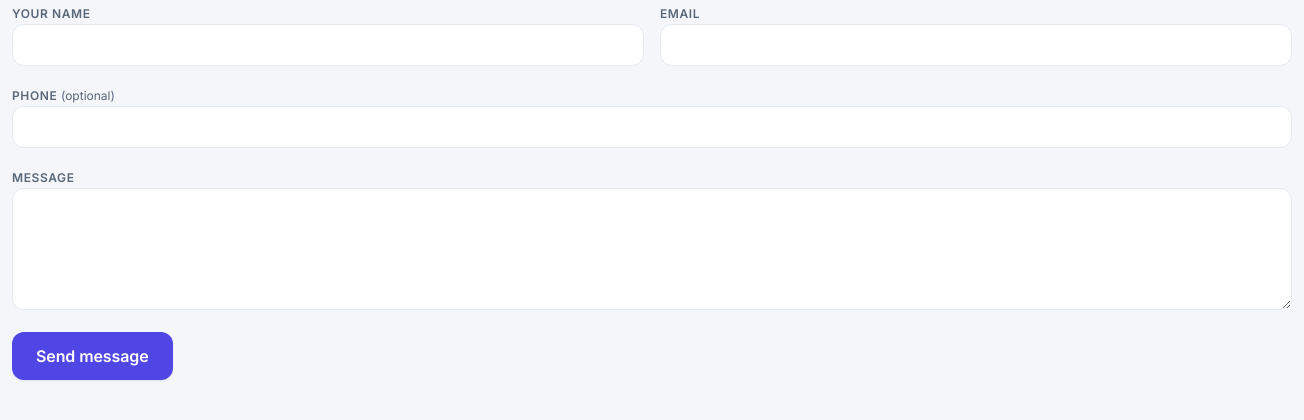
ContactForm › maps server field errors onto the fields
In the field labelled "Your name": (328, 45) [12,24,644,66], type "Ravi Kumar"
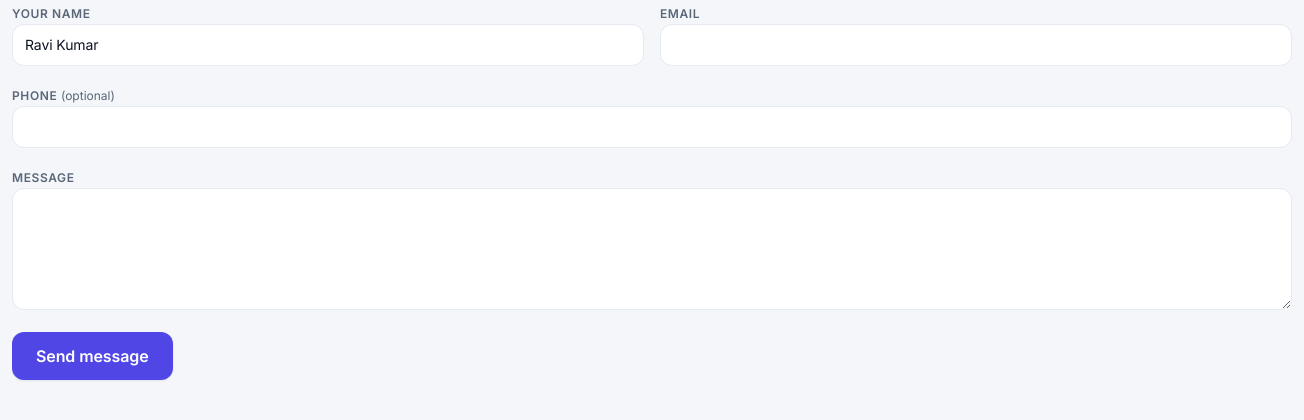
In the field labelled "Email": (976, 45) [660,24,1292,66], type "ravi@example.com"
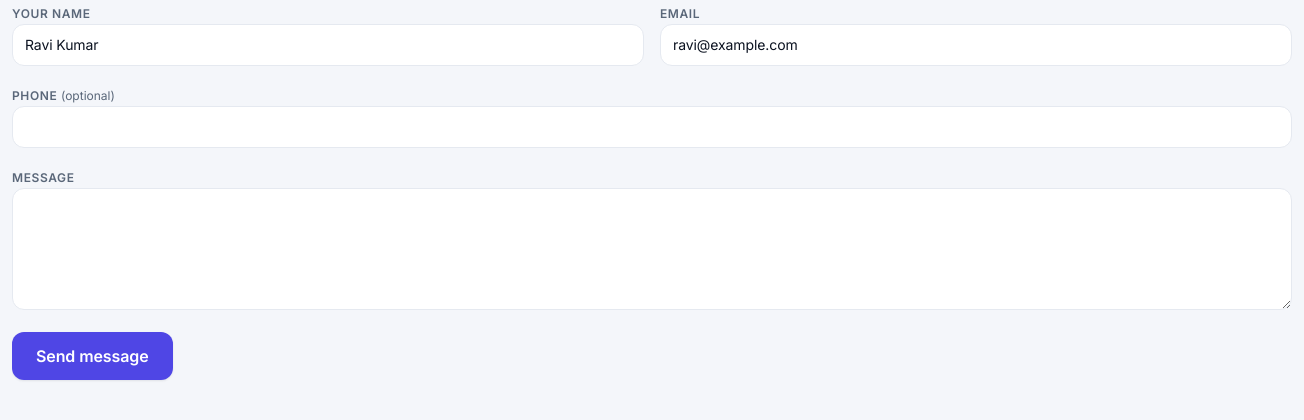
In the text box labelled "Message": (652, 249) [12,188,1292,310], type "I run a 60-bed PG in Hyderabad and would like early access."
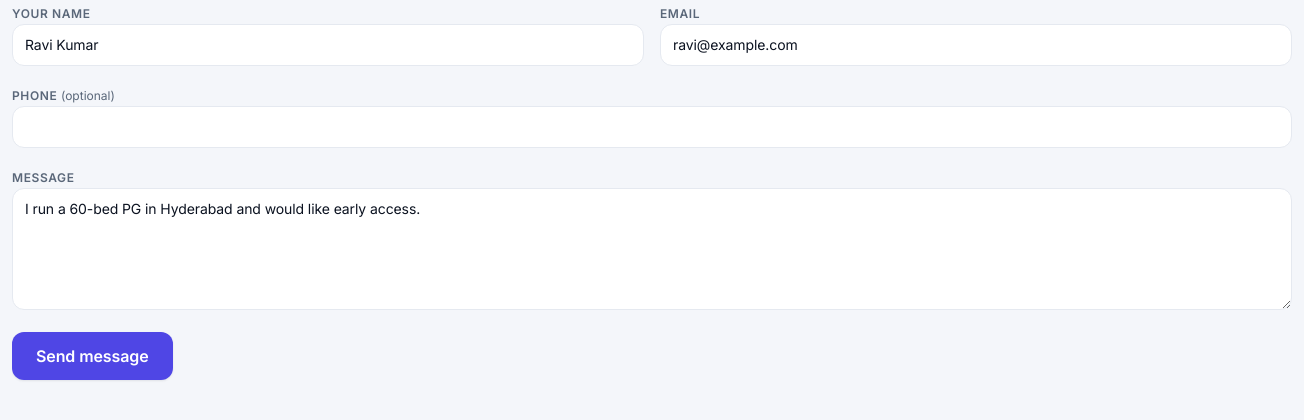
Click the button "Send message": click(92, 356) [12,332,173,380]
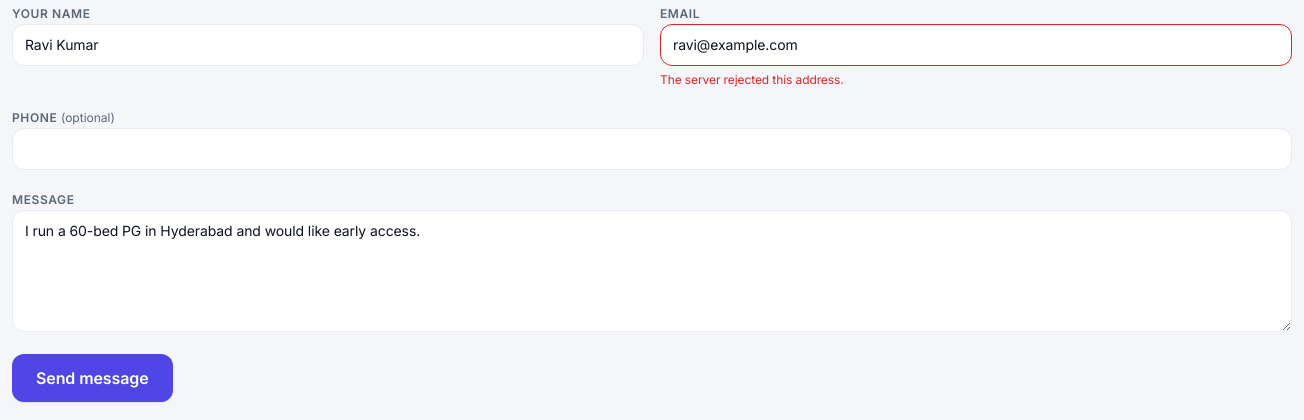
Expected: the button "Send message" is shown, [12,354,173,402]
Now the text "The server rejected this address." is shown, box [660,72,844,87]
